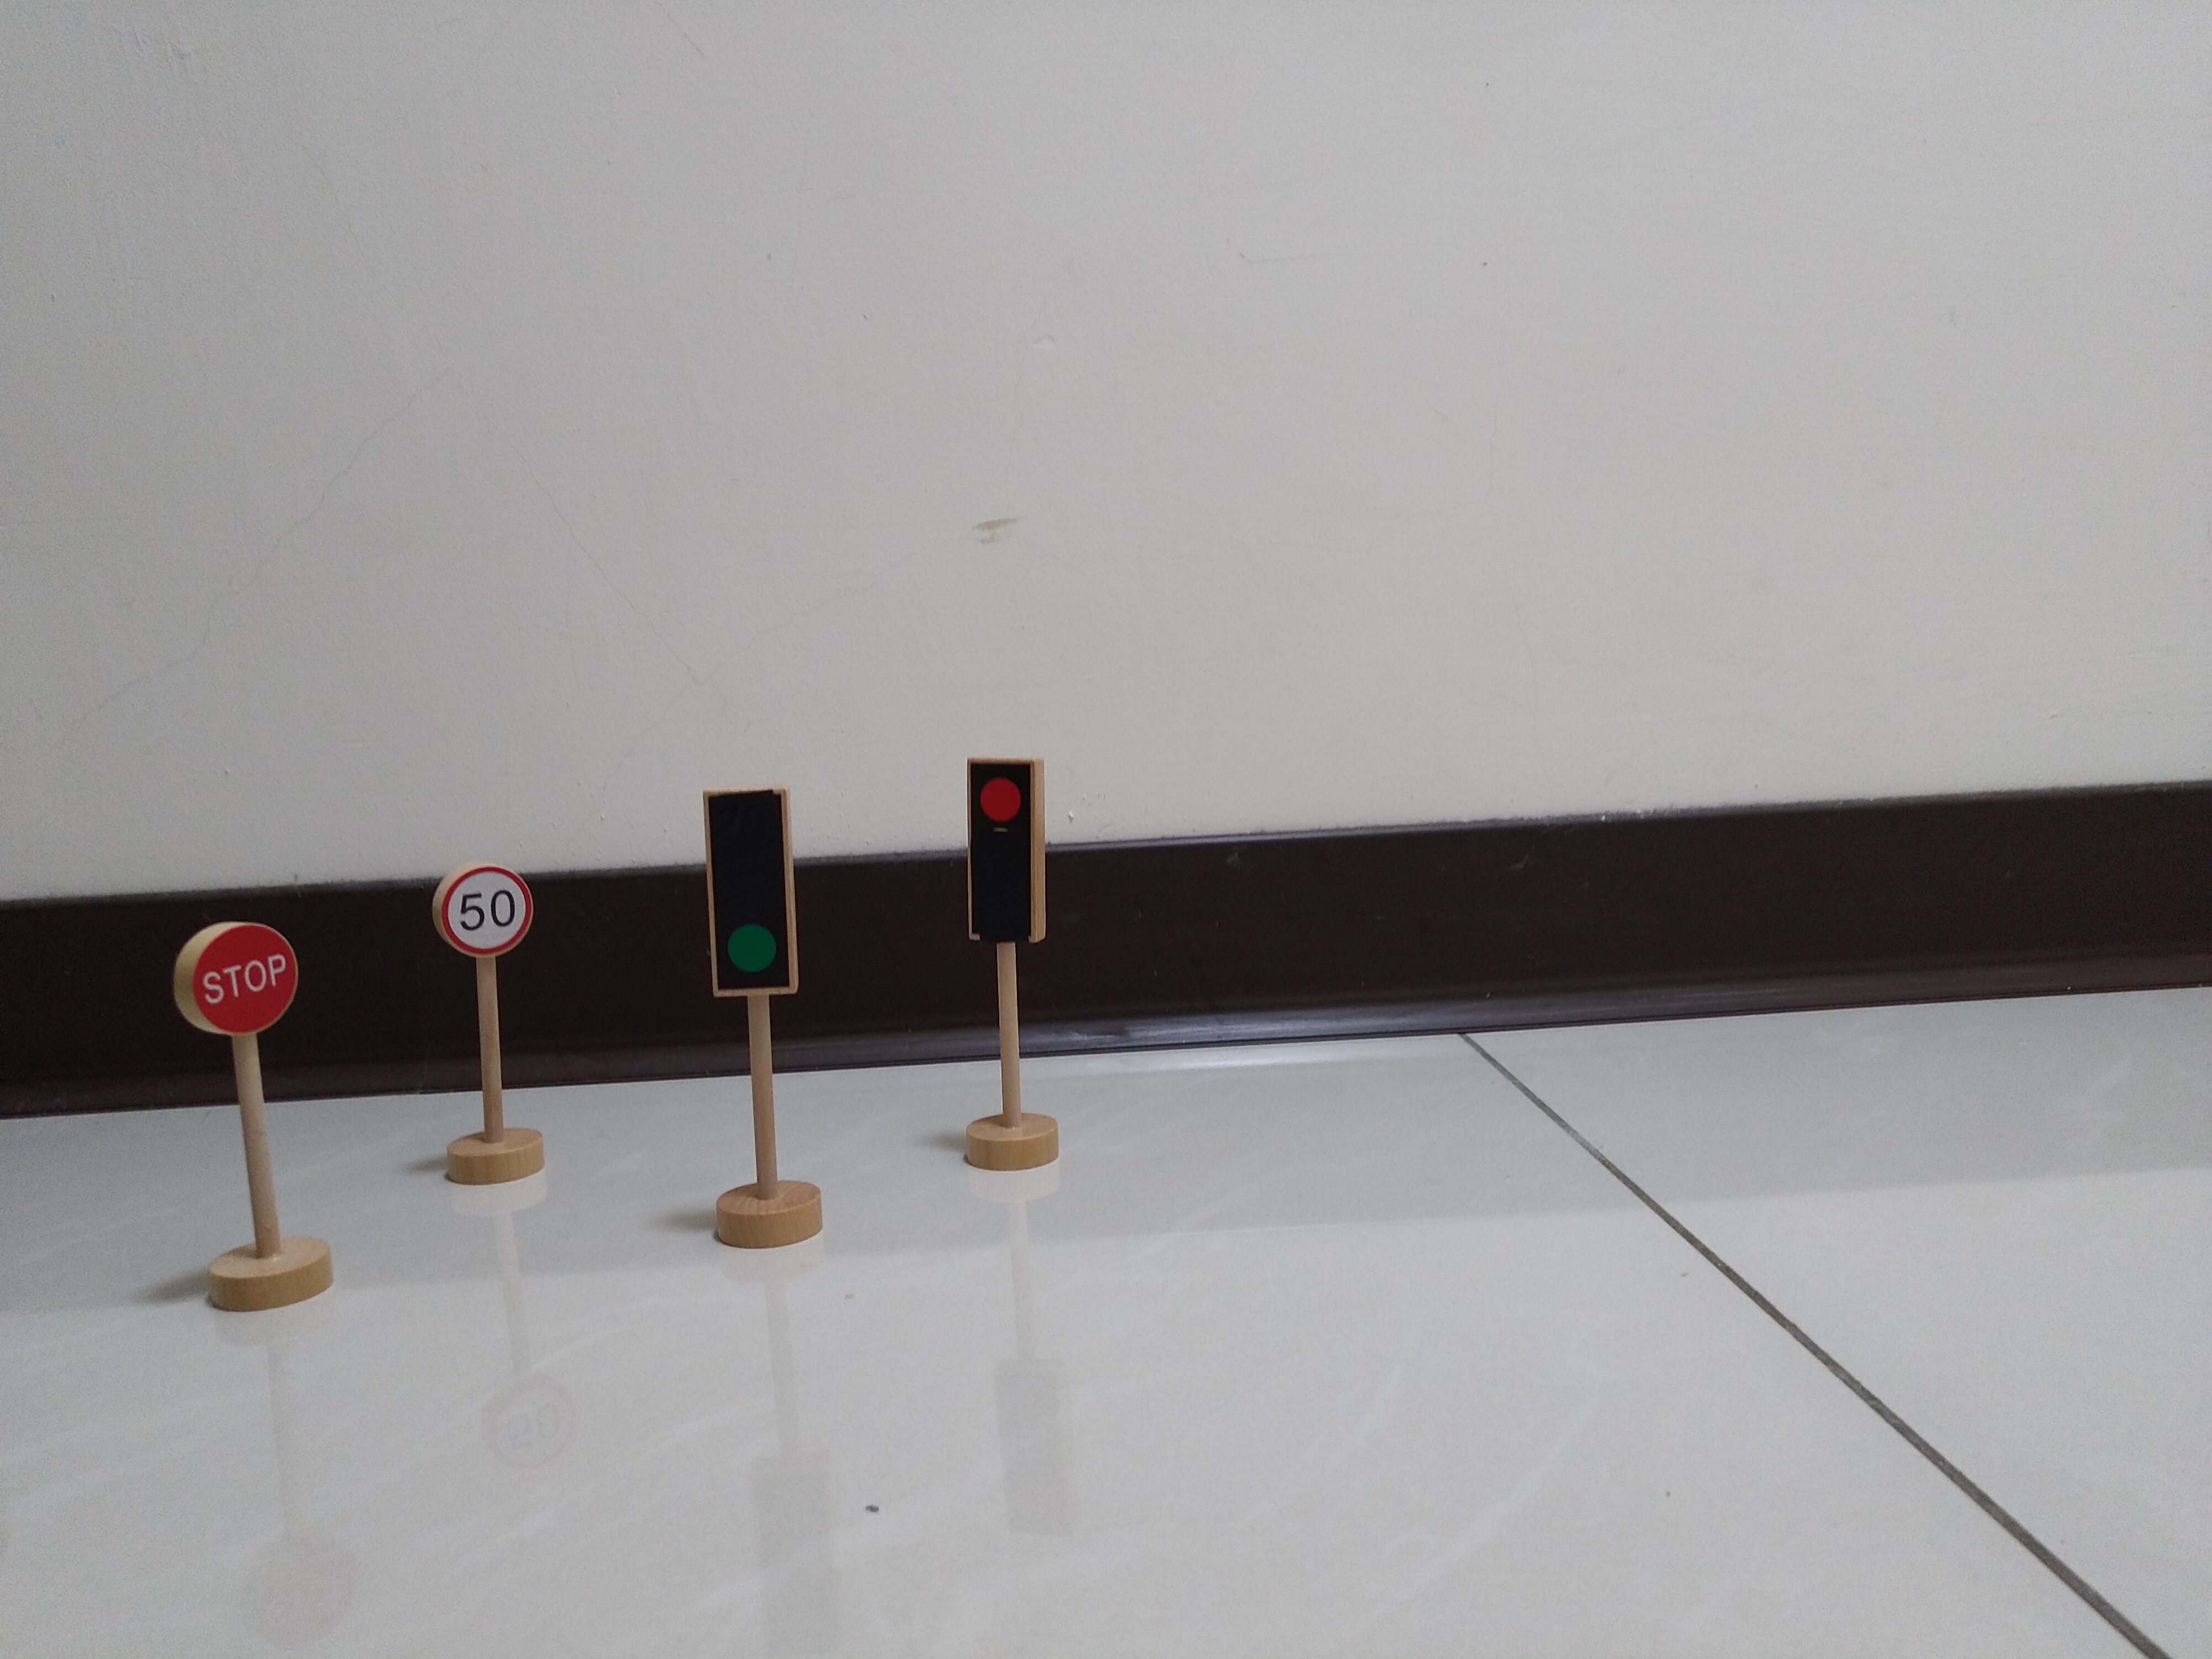Green: (702, 786, 810, 997)
Red: (958, 742, 1043, 948)
Speed50: (444, 856, 529, 953)
Stop: (192, 917, 296, 1037)
